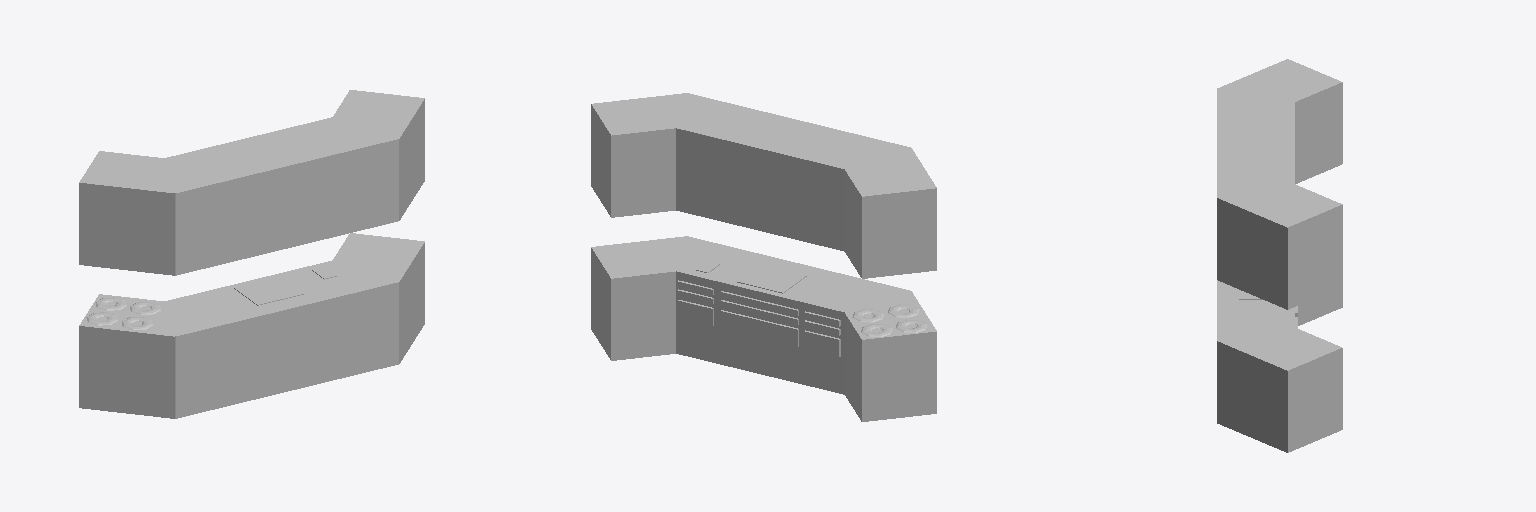
Rendered from kitchen.obj.
3 views of the same model, side by side, from view 1: azimuth 30°, elevation 25°; view 2: azimuth 150°, elevation 25°; view 3: azimuth 270°, elevation 25° (orthographic).
Bounding box in the file's own units: 464 × 289 × 146.